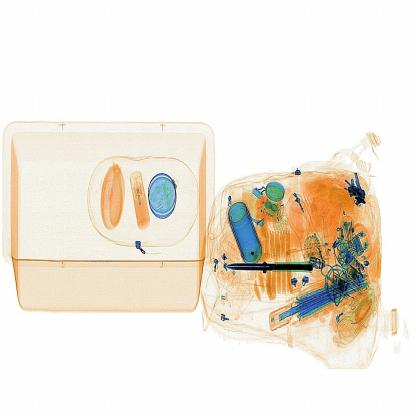gun: (219, 253, 324, 283)
